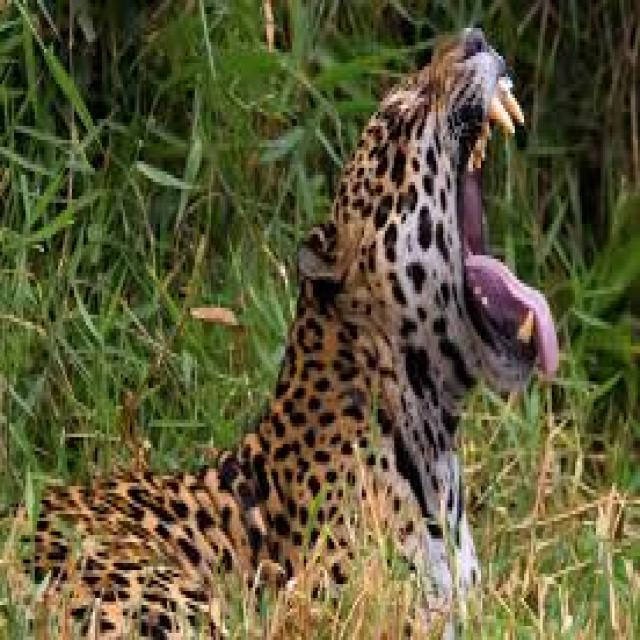Jaguar: (62, 32, 558, 594)
